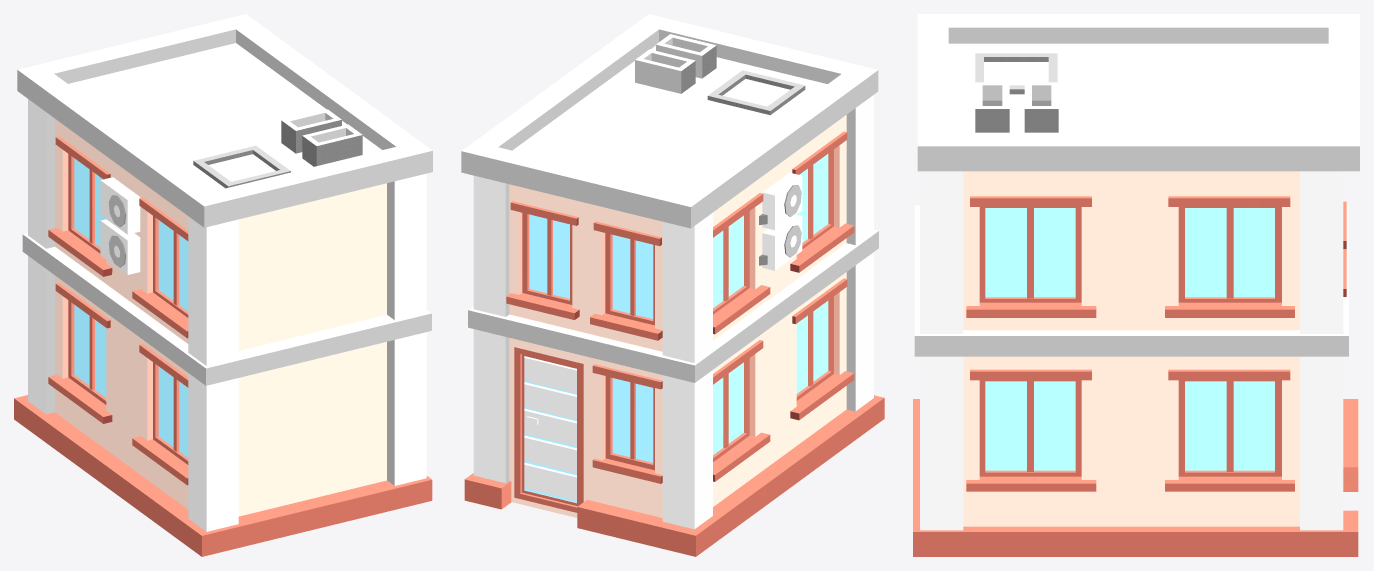
Rendered from dwelling.006.glb.
3 renders of one model, left to right at view 1: azimuth 30°, elevation 25°; view 2: azimuth 150°, elevation 25°; view 3: azimuth 270°, elevation 25°, orthographic. The views are drawn at different scales.
Parts seen in each view (by area): view 1: dwelling.006(Clone); view 2: dwelling.006(Clone); view 3: dwelling.006(Clone).
Boxes of the visible parts, bbox=[...] form: dwelling.006(Clone): bbox=[14, 14, 432, 556]; dwelling.006(Clone): bbox=[461, 14, 884, 556]; dwelling.006(Clone): bbox=[913, 14, 1359, 556].
Bounding box in the file's own units: 4 × 5.87 × 5.62.
1 material, 1 textured.
